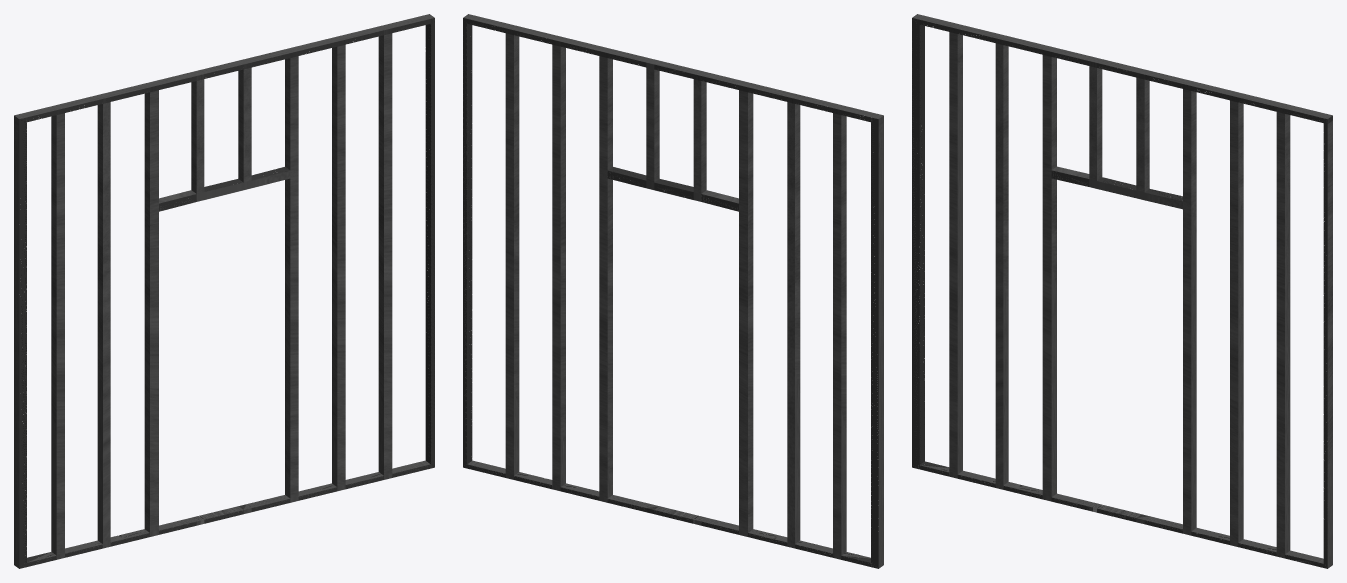
File: bars_s_dverma.fbx
3 views of the same model, side by side, from view 1: azimuth 30°, elevation 25°; view 2: azimuth 150°, elevation 25°; view 3: azimuth 330°, elevation 25° (orthographic).
Visible parts, largest first — view 1: mrize s dverma; view 2: mrize s dverma; view 3: mrize s dverma.
Boxes of the visible parts, <box> form: mrize s dverma: <box>14,14,434,568</box>; mrize s dverma: <box>463,14,883,568</box>; mrize s dverma: <box>912,14,1332,568</box>.
Size of the model in its own units: 307 by 317 by 6.77.
